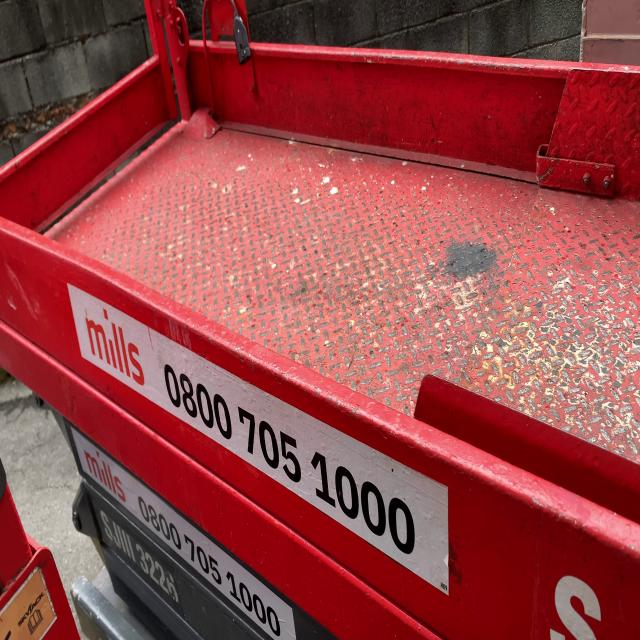Adesivos: (65, 279, 451, 600)
